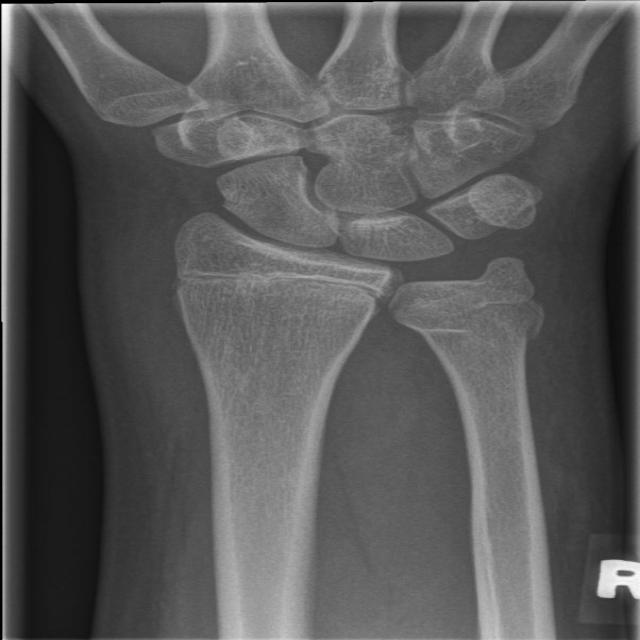fracture: (153, 255, 397, 311), (364, 283, 558, 328)
